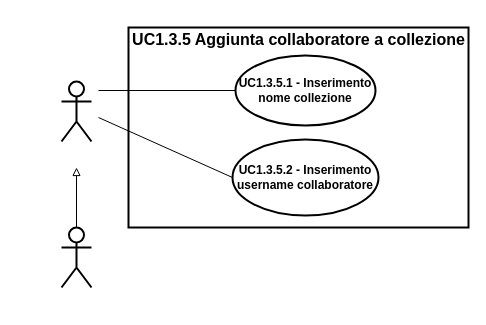
Some shapes in this 486 by 325 pixel diagram are drawn without their labels. The centre of each missing label's shape, as x and y in pixels:
"Utente amministratore" goes at (76,257).
"Utente autenticato" goes at (76,111).
